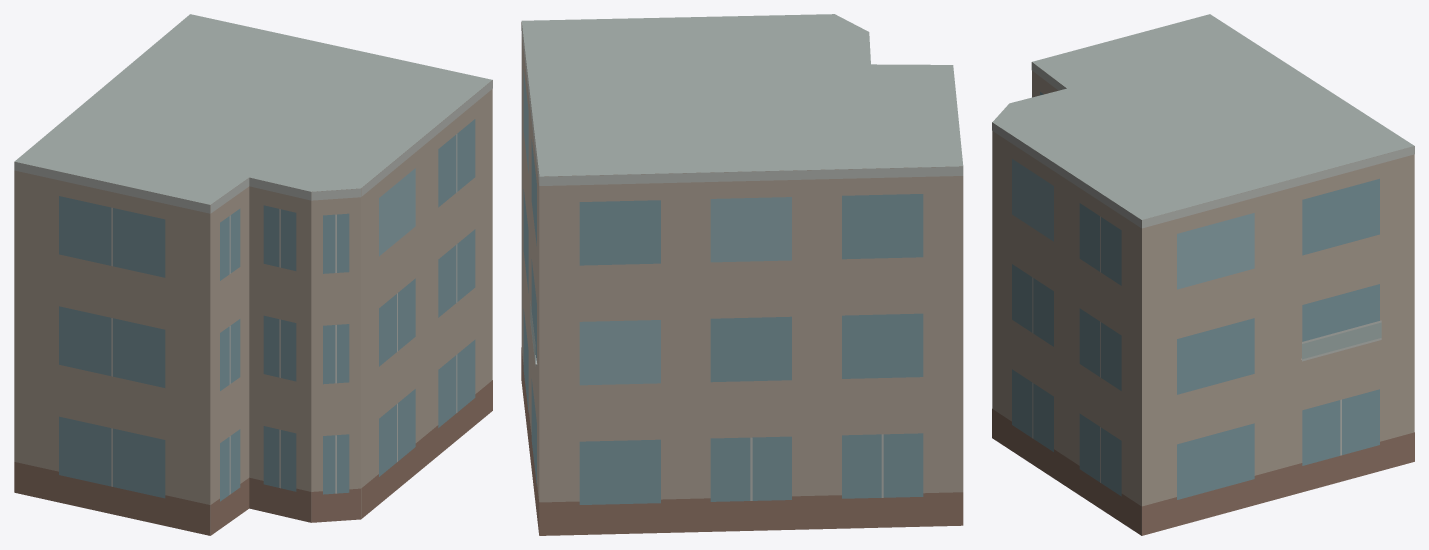
File: survey-upis-32761842.glb
3 views of the same model, side by side, from view 1: azimuth 30°, elevation 25°; view 2: azimuth 150°, elevation 25°; view 3: azimuth 270°, elevation 25° (orthographic). The views are drawn at different scales.
Parts seen in each view (by area): view 1: survey-upis-32761842.tmp; view 2: survey-upis-32761842.tmp; view 3: survey-upis-32761842.tmp.
Part boxes in pixels (box(x1,y1,x2,y2)): survey-upis-32761842.tmp: box(14, 14, 492, 535); survey-upis-32761842.tmp: box(521, 14, 963, 535); survey-upis-32761842.tmp: box(992, 14, 1414, 535).
Size of the model in its own units: 12.82 by 9.15 by 11.11.
